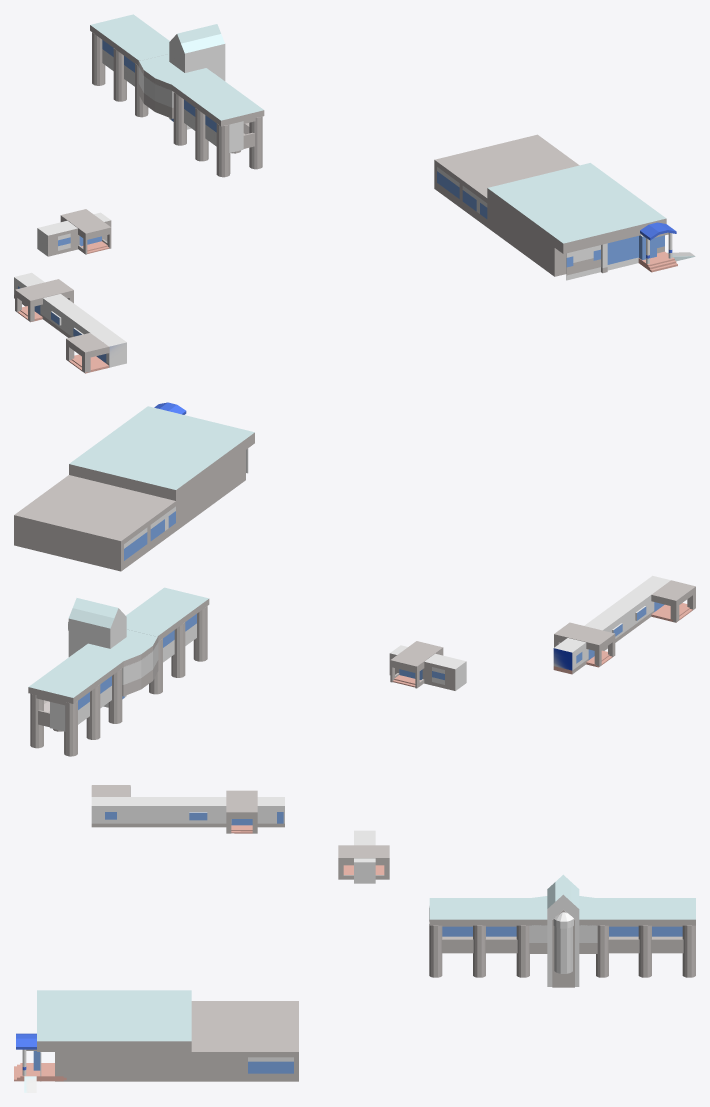
Rendered from tuuro_all.glb.
3 renders of one model, top to bottom at view 1: azimuth 30°, elevation 25°; view 2: azimuth 150°, elevation 25°; view 3: azimuth 270°, elevation 25°, orthographic. The views are drawn at different scales.
Parts seen in each view (by area): view 1: 体育館前スペース・屋根装飾土台, 渡り廊下・屋根_1, 渡り廊下・支柱, 食堂・学生寮側通路, 渡り廊下・階段部分, 体育館・昇降口・壁, 渡り廊下・後方側, 食堂・本校者側通路, 渡り廊下・丸目の屋根, 食堂・学生寮側通路出入り口屋根, 食堂・本校舎側通路出入り口屋根, 食堂・学生寮側通路出入り口屋根_2 (+1 smaller); view 2: 体育館前スペース・屋根装飾土台, 渡り廊下・屋根_1, 渡り廊下・支柱, 食堂・学生寮側通路, 渡り廊下・階段部分, 食堂・本校者側通路, 渡り廊下・後方側, 渡り廊下・丸目の屋根, 食堂・学生寮側通路出入り口屋根, 食堂・本校舎側通路出入り口屋根, 食堂・学生寮側通路出入り口屋根_2, 渡り廊下・丸目の屋根・真ん中部分; view 3: 体育館前スペース・屋根装飾土台, 渡り廊下・屋根_1, 食堂・学生寮側通路, 渡り廊下・支柱, 渡り廊下・ベランダ, 渡り廊下・階段部分, 渡り廊下・後方側, 食堂・本校舎側通路出入り口屋根, 食堂・学生寮側通路出入り口屋根, 渡り廊下・丸目の屋根, 食堂・本校者側通路, 渡り廊下・階段部分・ガラス筒 (+4 smaller).
Part boxes in pixels (x1,y1,x2,y2): 体育館前スペース・屋根装飾土台: (434,134,666,276); 渡り廊下・屋根_1: (90,14,264,126); 渡り廊下・支柱: (92,32,262,177); 食堂・学生寮側通路: (14,272,126,367); 渡り廊下・階段部分: (169,24,225,129); 体育館・昇降口・壁: (566,235,664,280); 渡り廊下・後方側: (102,40,243,152); 食堂・本校者側通路: (37,212,111,256); 渡り廊下・丸目の屋根: (138,54,213,90); 食堂・学生寮側通路出入り口屋根: (15,279,73,321); 食堂・本校舎側通路出入り口屋根: (60,209,111,254); 食堂・学生寮側通路出入り口屋根_2: (66,333,109,372); 体育館前スペース・屋根装飾土台: (14,406,254,571); 渡り廊下・屋根_1: (28,587,209,703); 渡り廊下・支柱: (30,606,207,756); 食堂・学生寮側通路: (553,575,670,674); 渡り廊下・階段部分: (68,598,126,707); 食堂・本校者側通路: (389,645,466,690); 渡り廊下・後方側: (50,614,196,731); 渡り廊下・丸目の屋根: (80,629,158,667); 食堂・学生寮側通路出入り口屋根: (554,622,615,666); 食堂・本校舎側通路出入り口屋根: (390,641,443,688); 食堂・学生寮側通路出入り口屋根_2: (651,580,695,622); 渡り廊下・丸目の屋根・真ん中部分: (122,642,158,684); 体育館前スペース・屋根装飾土台: (37,990,298,1081); 渡り廊下・屋根_1: (429,898,695,925); 食堂・学生寮側通路: (91,797,284,827); 渡り廊下・支柱: (429,906,695,977); 渡り廊下・ベランダ: (441,936,683,953); 渡り廊下・階段部分: (547,874,579,986); 渡り廊下・後方側: (442,926,682,936); 食堂・本校舎側通路出入り口屋根: (338,845,389,879); 食堂・学生寮側通路出入り口屋根: (226,790,257,833); 渡り廊下・丸目の屋根: (532,896,595,925); 食堂・本校者側通路: (354,830,375,883); 渡り廊下・階段部分・ガラス筒: (554,926,572,973).
Size of the model in its own units: 25.65 by 3.87 by 25.8.
1 material, 1 textured.
